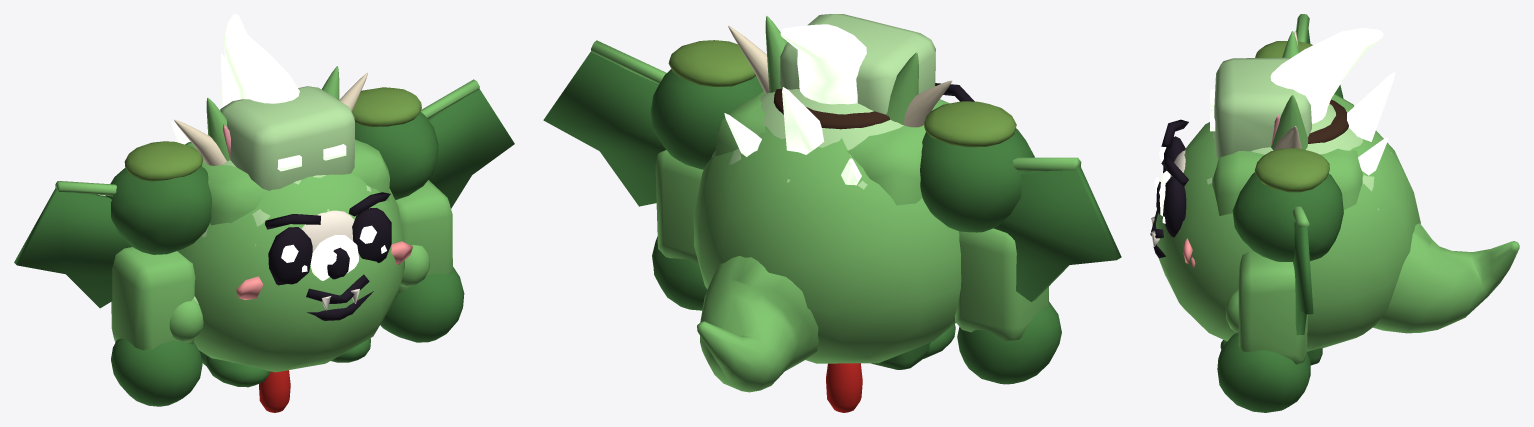
The model's file is mobs.glb.
3 renders of one model, left to right at view 1: azimuth 30°, elevation 25°; view 2: azimuth 150°, elevation 25°; view 3: azimuth 270°, elevation 25°, orthographic. The views are drawn at different scales.
Parts seen in each view (by area): view 1: imp_body, gm_head, bat_wing-1, gm_shoulder-1, gm_arm-1, bat_wing1, gm_fist-1, gm_fist1, gm_shoulder1, gm_torso, wisp_flame, gm_arm1 (+20 smaller); view 2: imp_body, wisp_tail, bat_wing1, bat_wing-1, gm_shoulder-1, gm_arm-1, gm_head, gm_shoulder1, gm_torso, wisp_flame, gm_fist-1, gm_arm1 (+15 smaller); view 3: imp_body, wisp_tail, gm_shoulder1, gm_head, gm_arm1, gm_fist1, wisp_flame, gm_torso, gm_moss1, bat_wing1, gm_crystal0, wisp_body (+9 smaller).
Boxes of the visible parts, <box> form: imp_body: <box>177,173,404,372</box>; gm_head: <box>220,86,354,190</box>; bat_wing-1: <box>14,188,131,308</box>; gm_shoulder-1: <box>106,166,211,254</box>; gm_arm-1: <box>111,247,195,350</box>; bat_wing1: <box>428,89,514,208</box>; gm_fist-1: <box>111,338,202,406</box>; gm_fist1: <box>380,267,464,342</box>; gm_shoulder1: <box>355,112,438,200</box>; gm_torso: <box>185,139,389,225</box>; wisp_flame: <box>224,14,299,103</box>; gm_arm1: <box>395,180,452,292</box>; imp_body: <box>693,126,961,363</box>; wisp_tail: <box>697,256,818,392</box>; bat_wing1: <box>543,52,666,206</box>; bat_wing-1: <box>993,166,1121,301</box>; gm_shoulder-1: <box>920,128,1034,232</box>; gm_arm-1: <box>955,228,1048,341</box>; gm_head: <box>780,14,935,114</box>; gm_shoulder1: <box>650,69,763,169</box>; gm_torso: <box>715,91,949,205</box>; wisp_flame: <box>780,24,866,104</box>; gm_fist-1: <box>957,301,1061,384</box>; gm_arm1: <box>655,150,703,264</box>; imp_body: <box>1156,122,1420,351</box>; wisp_tail: <box>1373,223,1519,333</box>; gm_shoulder1: <box>1232,172,1343,261</box>; gm_head: <box>1214,57,1311,158</box>; gm_arm1: <box>1238,250,1307,364</box>; gm_fist1: <box>1217,332,1310,412</box>; wisp_flame: <box>1270,28,1383,123</box>; gm_torso: <box>1212,93,1362,215</box>; gm_moss1: <box>1254,148,1329,192</box>; bat_wing1: <box>1293,221,1313,335</box>; gm_crystal0: <box>1347,71,1395,141</box>; wisp_body: <box>1212,103,1362,154</box>.
Size of the model in its own units: 3.8 by 2.65 by 2.42.
